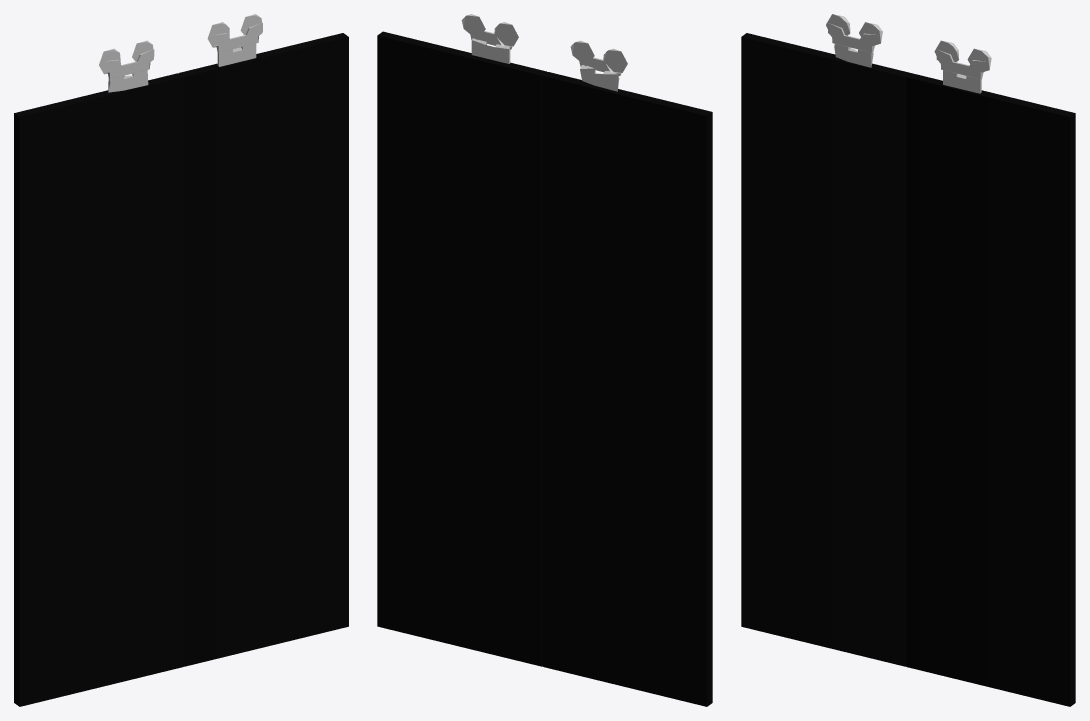
The model's file is sm_elevatorBox_Lod2.fbx.
3 views of the same model, side by side, from view 1: azimuth 30°, elevation 25°; view 2: azimuth 150°, elevation 25°; view 3: azimuth 330°, elevation 25° (orthographic).
Parts seen in each view (by area): view 1: sm_elevator_doorLeft_Lod1__2_, sm_elevator_doorRight_Lod1__1_; view 2: sm_elevator_doorLeft_Lod1__2_, sm_elevator_doorRight_Lod1__1_; view 3: sm_elevator_doorRight_Lod1__1_, sm_elevator_doorLeft_Lod1__2_.
Boxes of the visible parts, x1,y1,x2,y2 form: sm_elevator_doorLeft_Lod1__2_: (14, 40, 183, 706); sm_elevator_doorRight_Lod1__1_: (179, 14, 348, 666); sm_elevator_doorLeft_Lod1__2_: (542, 40, 712, 706); sm_elevator_doorRight_Lod1__1_: (377, 14, 546, 666); sm_elevator_doorRight_Lod1__1_: (906, 40, 1075, 706); sm_elevator_doorLeft_Lod1__2_: (741, 14, 909, 666).
Size of what is drawn, in the model's own units: 120 by 219 by 3.51.
